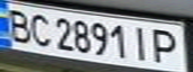1: (109, 21, 130, 60)
2: (51, 15, 75, 52)
8: (69, 17, 93, 55)
9: (87, 20, 112, 57)
B: (0, 7, 36, 44)
C: (24, 11, 54, 47)
I: (127, 24, 157, 62)
P: (148, 26, 187, 65)
